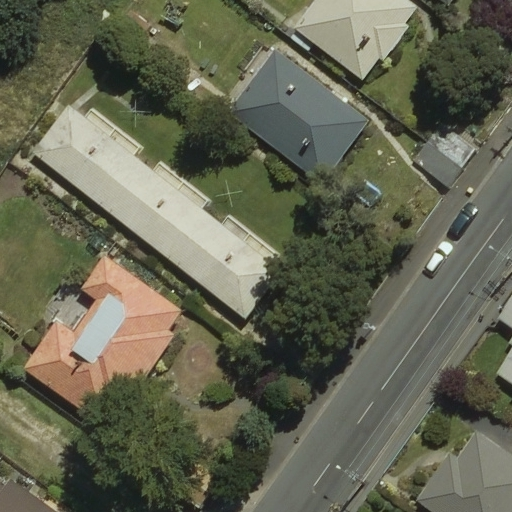DT: (323, 450, 374, 499), (485, 234, 512, 283)
